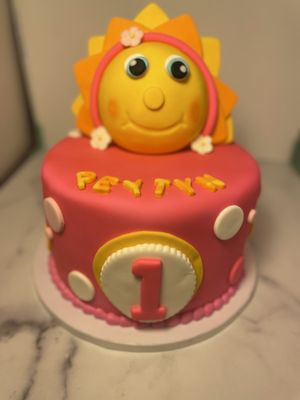sushi: (36, 0, 262, 367)
